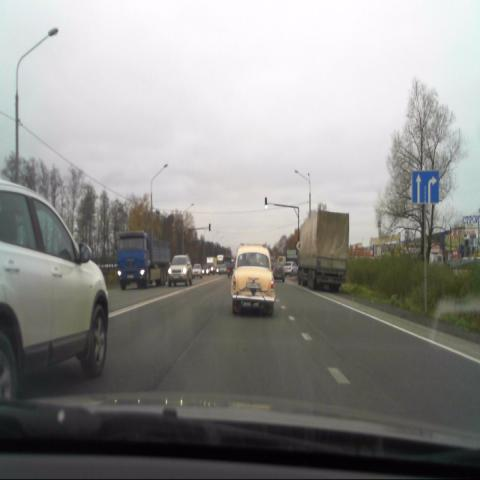5_15_2_2: (409, 168, 440, 203)
